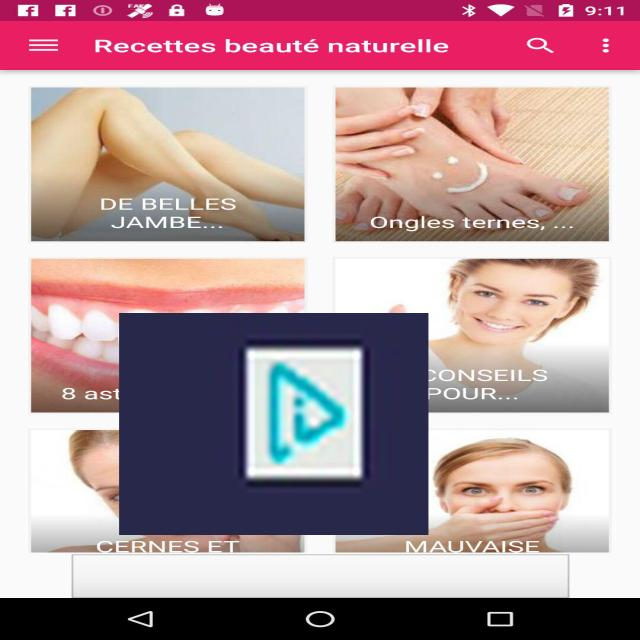sneaking: (119, 313, 429, 535)
